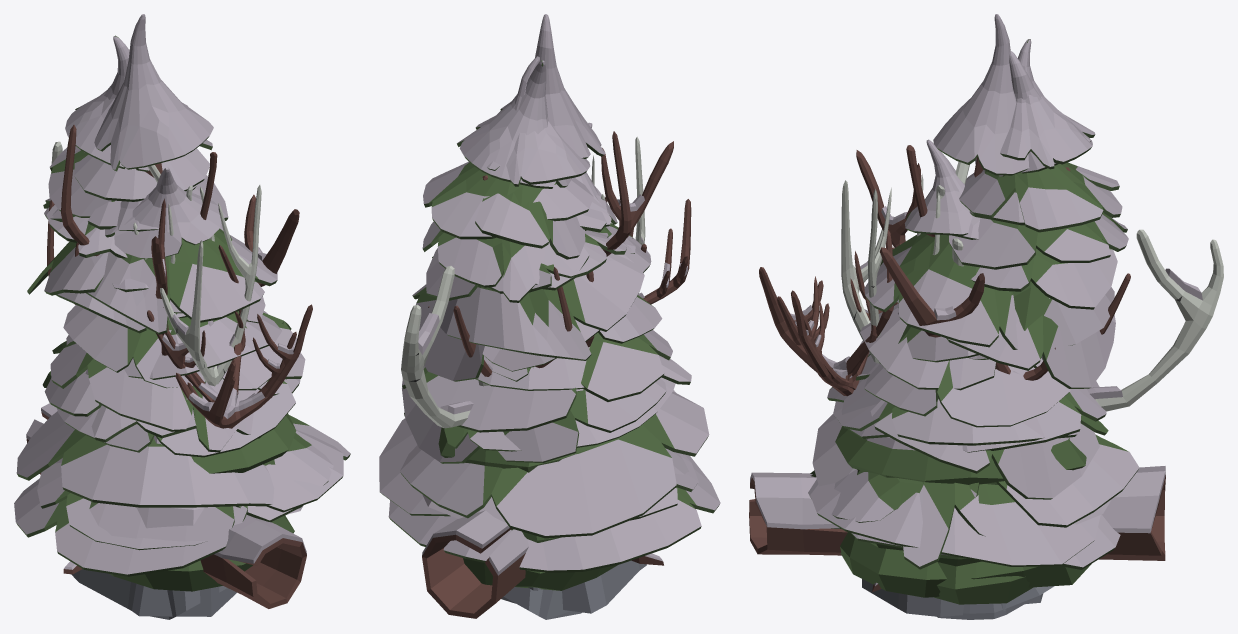
The model's file is nature.glb.
The picture shows the model from 3 angles, left to right: view 1: azimuth 30°, elevation 25°; view 2: azimuth 150°, elevation 25°; view 3: azimuth 270°, elevation 25°; orthographic projection. The views are drawn at different scales.
Visible parts, largest first — view 1: PineTree_Snow_2_Cylinder.079, PineTree_Snow_3_Cylinder.078, PineTree_Snow_1_Cylinder.080, PineTree_Snow_5_Cylinder.076, PineTree_Snow_4_Cylinder.077, CommonTree_Dead_Snow_2_Cube.057, WoodLog_Snow_Cylinder.019, Bush_Snow_1_Cube.131, BirchTree_Dead_Snow_2_Cube.048, Rock_Moss_7_Cube.028, CommonTree_Dead_Snow_1_Cube.056, Rock_Moss_4_Cube.023 (+1 smaller); view 2: PineTree_Snow_2_Cylinder.079, PineTree_Snow_3_Cylinder.078, PineTree_Snow_4_Cylinder.077, WoodLog_Snow_Cylinder.019, PineTree_Snow_1_Cylinder.080, BirchTree_Dead_1_Cube.100, PineTree_Snow_5_Cylinder.076, CommonTree_Dead_Snow_2_Cube.057, Bush_Snow_1_Cube.131, Rock_Moss_7_Cube.028, CommonTree_Dead_Snow_1_Cube.056, Rock_Moss_4_Cube.023 (+2 smaller); view 3: PineTree_Snow_3_Cylinder.078, PineTree_Snow_2_Cylinder.079, PineTree_Snow_4_Cylinder.077, PineTree_Snow_1_Cylinder.080, PineTree_Snow_5_Cylinder.076, Bush_Snow_1_Cube.131, WoodLog_Snow_Cylinder.019, CommonTree_Dead_Snow_2_Cube.057, BirchTree_Dead_1_Cube.100, BirchTree_Dead_Snow_2_Cube.048, Bush_Snow_2_Cube.133, CommonTree_Dead_Snow_1_Cube.056 (+4 smaller).
Boxes of the visible parts, <box> form: PineTree_Snow_2_Cylinder.079: <box>16,14,277,507</box>; PineTree_Snow_3_Cylinder.078: <box>14,90,350,576</box>; PineTree_Snow_1_Cylinder.080: <box>37,170,343,550</box>; PineTree_Snow_5_Cylinder.076: <box>63,167,297,399</box>; PineTree_Snow_4_Cylinder.077: <box>27,35,228,295</box>; CommonTree_Dead_Snow_2_Cube.057: <box>61,125,312,428</box>; WoodLog_Snow_Cylinder.019: <box>26,403,306,608</box>; Bush_Snow_1_Cube.131: <box>55,413,303,591</box>; BirchTree_Dead_Snow_2_Cube.048: <box>133,185,261,386</box>; Rock_Moss_7_Cube.028: <box>71,569,236,616</box>; CommonTree_Dead_Snow_1_Cube.056: <box>47,200,296,419</box>; Rock_Moss_4_Cube.023: <box>150,586,221,619</box>; PineTree_Snow_2_Cylinder.079: <box>400,14,709,538</box>; PineTree_Snow_3_Cylinder.078: <box>388,56,720,572</box>; PineTree_Snow_4_Cylinder.077: <box>422,60,644,360</box>; WoodLog_Snow_Cylinder.019: <box>422,390,675,618</box>; PineTree_Snow_1_Cylinder.080: <box>379,188,698,520</box>; BirchTree_Dead_1_Cube.100: <box>401,265,488,428</box>; PineTree_Snow_5_Cylinder.076: <box>475,122,662,390</box>; CommonTree_Dead_Snow_2_Cube.057: <box>482,131,691,304</box>; Bush_Snow_1_Cube.131: <box>422,427,618,590</box>; Rock_Moss_7_Cube.028: <box>562,560,646,613</box>; CommonTree_Dead_Snow_1_Cube.056: <box>428,228,672,376</box>; Rock_Moss_4_Cube.023: <box>503,587,581,619</box>; PineTree_Snow_3_Cylinder.078: <box>808,51,1120,569</box>; PineTree_Snow_2_Cylinder.079: <box>812,14,1139,548</box>; PineTree_Snow_4_Cylinder.077: <box>949,39,1128,359</box>; PineTree_Snow_1_Cylinder.080: <box>810,215,1108,566</box>; PineTree_Snow_5_Cylinder.076: <box>864,139,1070,427</box>; Bush_Snow_1_Cube.131: <box>831,426,1111,597</box>; WoodLog_Snow_Cylinder.019: <box>749,466,1165,560</box>; CommonTree_Dead_Snow_2_Cube.057: <box>759,150,1070,396</box>; BirchTree_Dead_1_Cube.100: <box>952,229,1223,411</box>; BirchTree_Dead_Snow_2_Cube.048: <box>841,174,940,363</box>; Bush_Snow_2_Cube.133: <box>933,554,1033,604</box>; CommonTree_Dead_Snow_1_Cube.056: <box>777,273,1130,389</box>.
Size of the model in its own units: 2.16 by 3.82 by 2.84.
